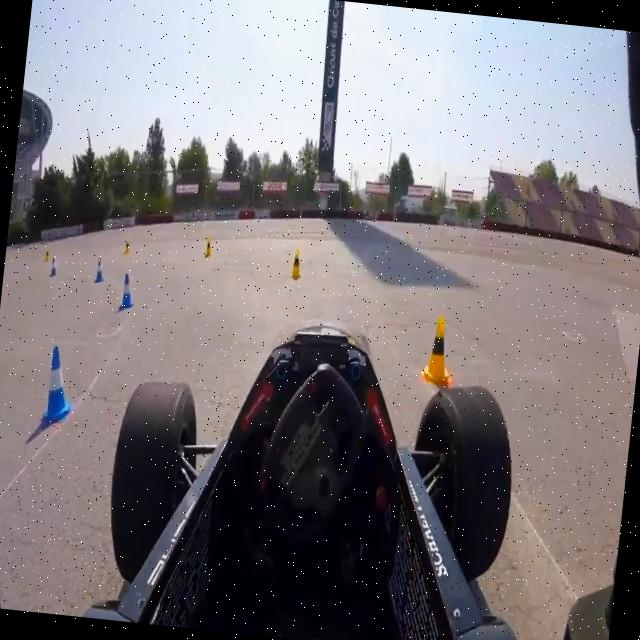blue_cone: (40, 341, 76, 426), (118, 270, 136, 311), (93, 256, 106, 284), (49, 255, 59, 278)
yellow_cone: (418, 317, 454, 385), (290, 250, 304, 282), (204, 239, 214, 258), (124, 239, 132, 257), (43, 248, 50, 264)
